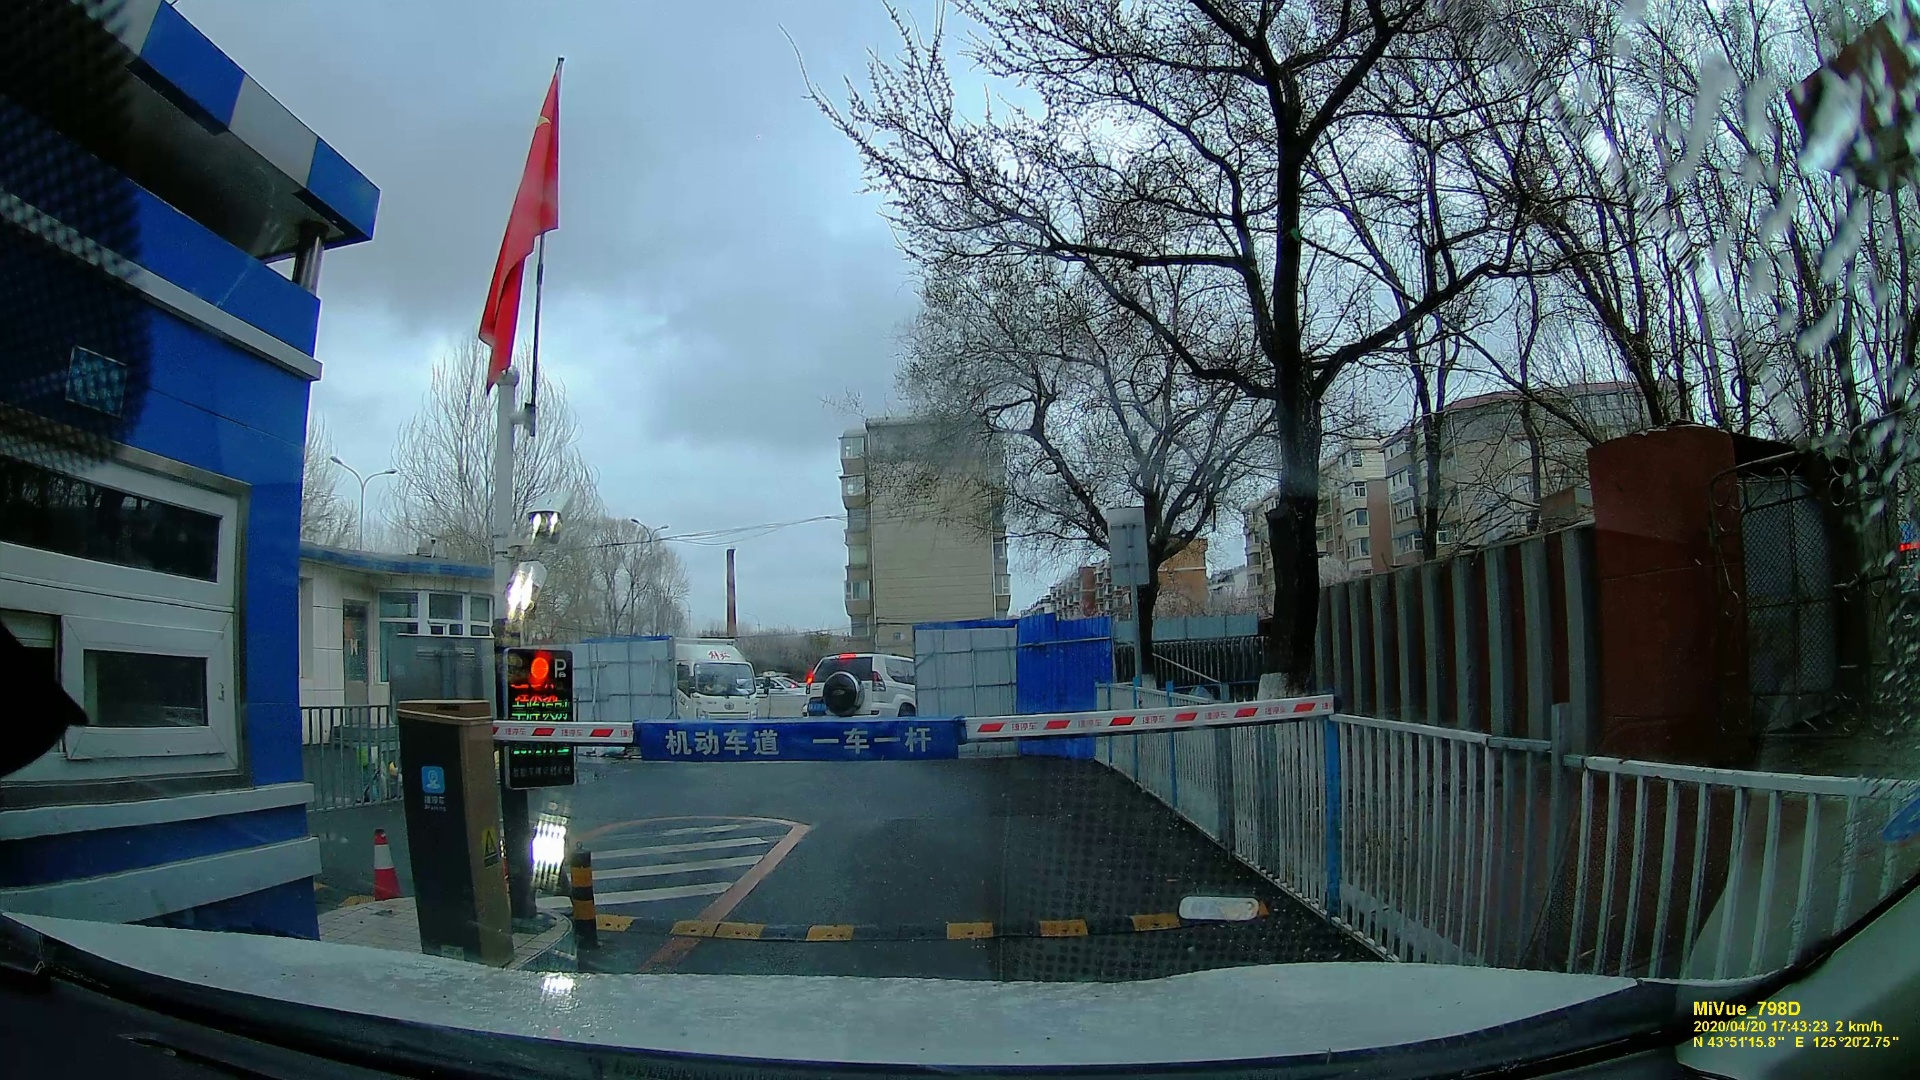truck: (659, 636, 769, 735)
vehicle: (799, 647, 918, 720)
